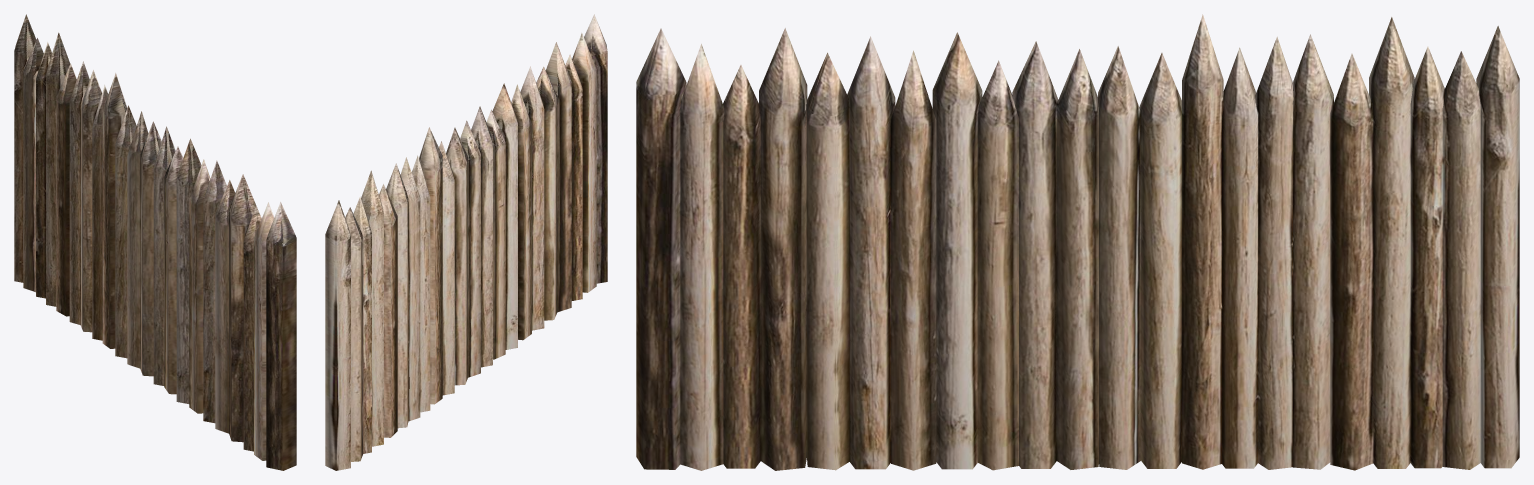
Rendered from Palisade wall Low Poly.obj.
3 renders of one model, left to right at view 1: azimuth 30°, elevation 25°; view 2: azimuth 150°, elevation 25°; view 3: azimuth 270°, elevation 25°, orthographic. The views are drawn at different scales.
Parts seen in each view (by area): view 1: Mesh37 Group19 Model, Mesh17 Group9 Model, Mesh1 Group1 Model, Mesh11 Group6 Model, Mesh41 Group21 Model, Mesh29 Group15 Model, Mesh27 Group14 Model, Mesh9 Group5 Model, Mesh5 Group3 Model, Mesh33 Group17 Model, Mesh21 Group11 Model, Mesh43 Group22 Model (+10 smaller); view 2: Mesh19 Group10 Model, Mesh17 Group9 Model, Mesh15 Group8 Model, Mesh1 Group1 Model, Mesh9 Group5 Model, Mesh11 Group6 Model, Mesh27 Group14 Model, Mesh21 Group11 Model, Mesh25 Group13 Model, Mesh41 Group21 Model, Mesh5 Group3 Model, Mesh37 Group19 Model (+10 smaller); view 3: Mesh17 Group9 Model, Mesh37 Group19 Model, Mesh41 Group21 Model, Mesh11 Group6 Model, Mesh15 Group8 Model, Mesh27 Group14 Model, Mesh5 Group3 Model, Mesh1 Group1 Model, Mesh21 Group11 Model, Mesh19 Group10 Model, Mesh9 Group5 Model, Mesh29 Group15 Model (+10 smaller).
Boxes of the visible parts, x1,y1,x2,y2 form: Mesh37 Group19 Model: (266, 202, 296, 470); Mesh17 Group9 Model: (229, 174, 258, 442); Mesh1 Group1 Model: (102, 73, 127, 348); Mesh11 Group6 Model: (176, 138, 201, 403); Mesh41 Group21 Model: (189, 159, 210, 413); Mesh29 Group15 Model: (140, 121, 161, 376); Mesh27 Group14 Model: (203, 160, 226, 423); Mesh9 Group5 Model: (127, 111, 148, 368); Mesh5 Group3 Model: (56, 63, 76, 316); Mesh33 Group17 Model: (80, 70, 101, 332); Mesh21 Group11 Model: (215, 180, 235, 433); Mesh43 Group22 Model: (115, 105, 136, 358); Mesh19 Group10 Model: (325, 200, 350, 470); Mesh17 Group9 Model: (545, 42, 571, 312); Mesh15 Group8 Model: (572, 33, 596, 292); Mesh1 Group1 Model: (419, 127, 442, 404); Mesh9 Group5 Model: (446, 127, 467, 385); Mesh11 Group6 Model: (492, 83, 517, 349); Mesh27 Group14 Model: (520, 66, 544, 330); Mesh21 Group11 Model: (536, 66, 557, 320); Mesh25 Group13 Model: (361, 170, 383, 446); Mesh41 Group21 Model: (511, 84, 531, 340); Mesh5 Group3 Model: (379, 184, 397, 437); Mesh37 Group19 Model: (584, 14, 607, 283); Mesh17 Group9 Model: (759, 28, 807, 470); Mesh37 Group19 Model: (636, 28, 686, 469); Mesh41 Group21 Model: (891, 50, 936, 470); Mesh11 Group6 Model: (932, 32, 982, 469); Mesh15 Group8 Model: (680, 44, 724, 470); Mesh27 Group14 Model: (847, 36, 895, 469); Mesh5 Group3 Model: (1330, 53, 1373, 470); Mesh1 Group1 Model: (1182, 14, 1223, 469); Mesh21 Group11 Model: (807, 52, 849, 470); Mesh19 Group10 Model: (1476, 26, 1519, 468); Mesh9 Group5 Model: (1098, 46, 1140, 469); Mesh29 Group15 Model: (1057, 49, 1098, 469).
Bounding box in the file's own units: 310 × 3002 × 5383.
